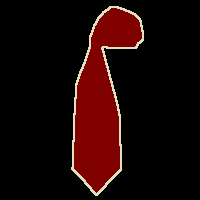tie: (72, 7, 143, 195)
